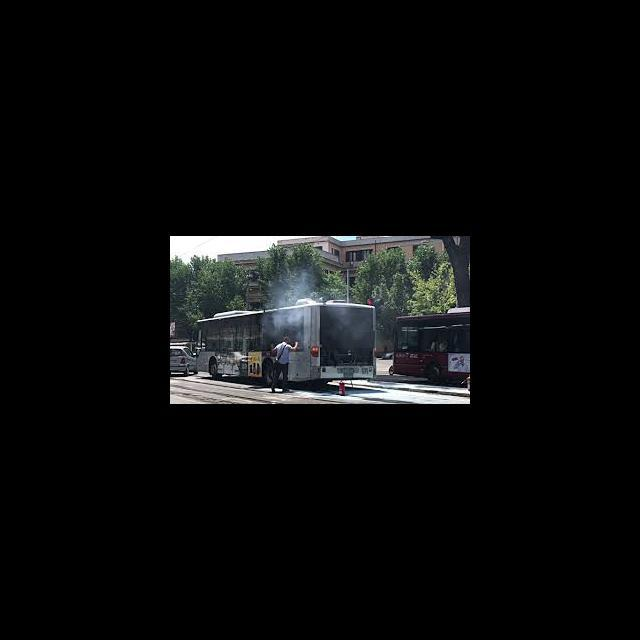Smoke: (268, 271, 316, 329), (326, 299, 372, 342)
